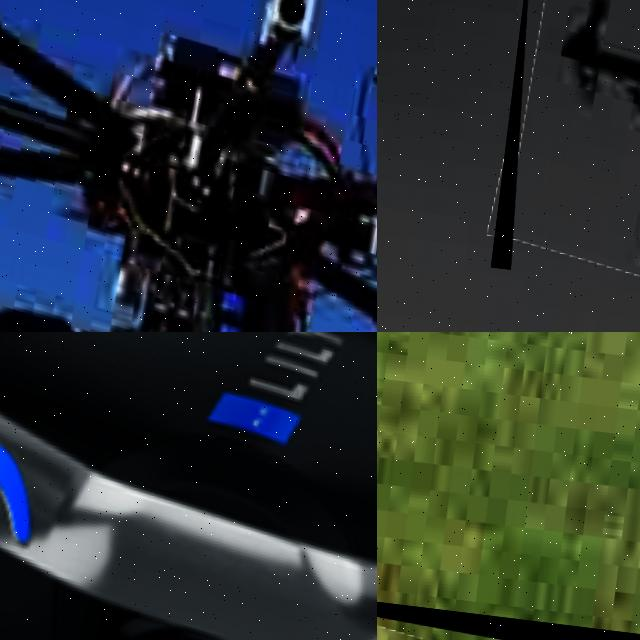0: (0, 0, 377, 332), (490, 0, 640, 317), (377, 571, 640, 640)
drone: (0, 332, 377, 640)
